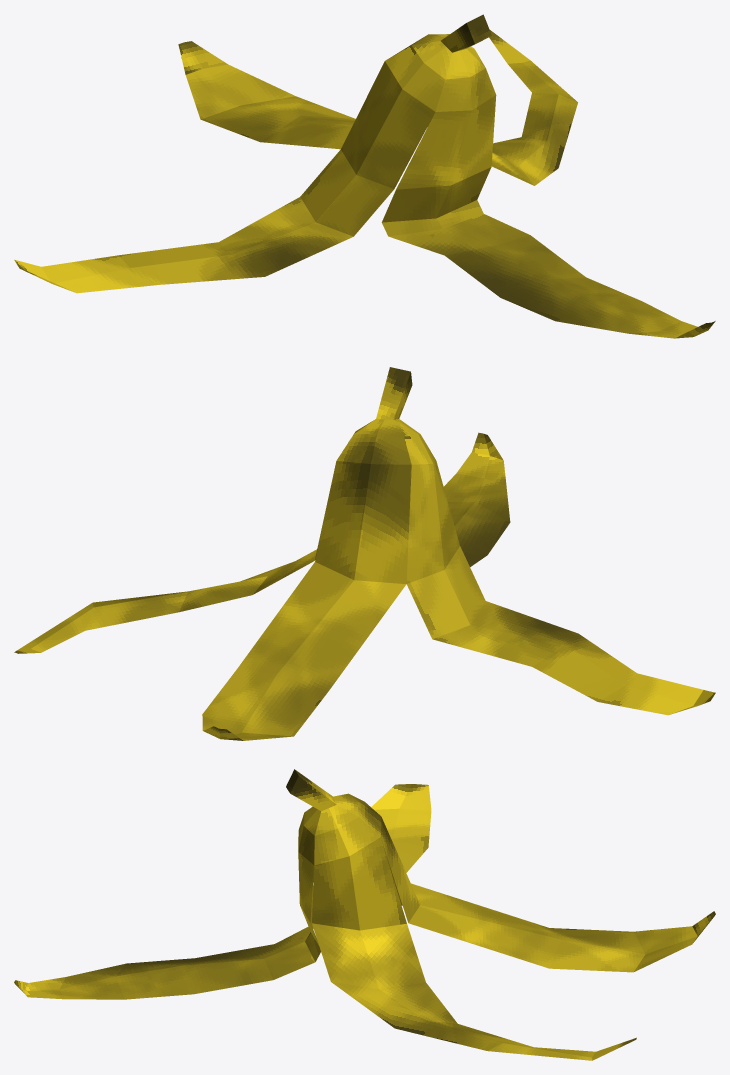
Rendered from banana.glb.
3 renders of one model, top to bottom at view 1: azimuth 30°, elevation 25°; view 2: azimuth 150°, elevation 25°; view 3: azimuth 270°, elevation 25°, orthographic. The views are drawn at different scales.
Visible parts, largest first — view 1: Cube; view 2: Cube; view 3: Cube.
Boxes of the visible parts, x1,y1,x2,y2 form: Cube: [14, 14, 715, 338]; Cube: [14, 367, 715, 740]; Cube: [14, 769, 715, 1060].
Size of the model in its own units: 1.03 by 0.3671 by 1.17.
1 material, 1 textured.
